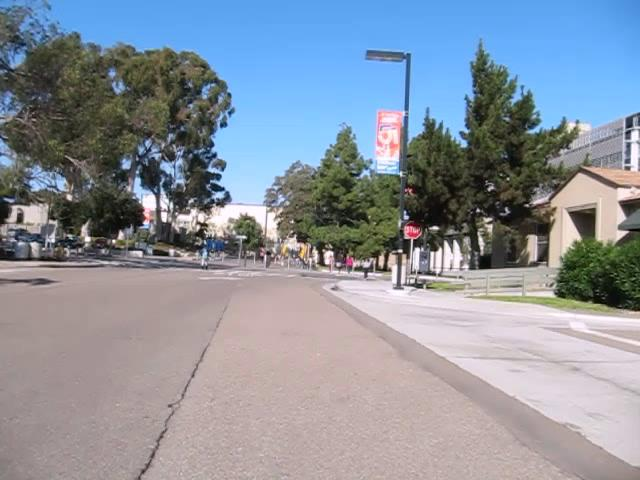stop: (403, 220, 423, 239)
